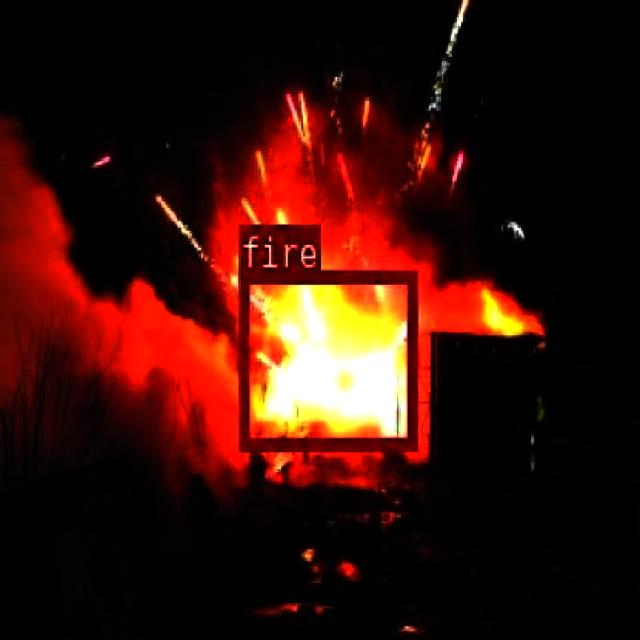fire: (240, 268, 414, 447)
